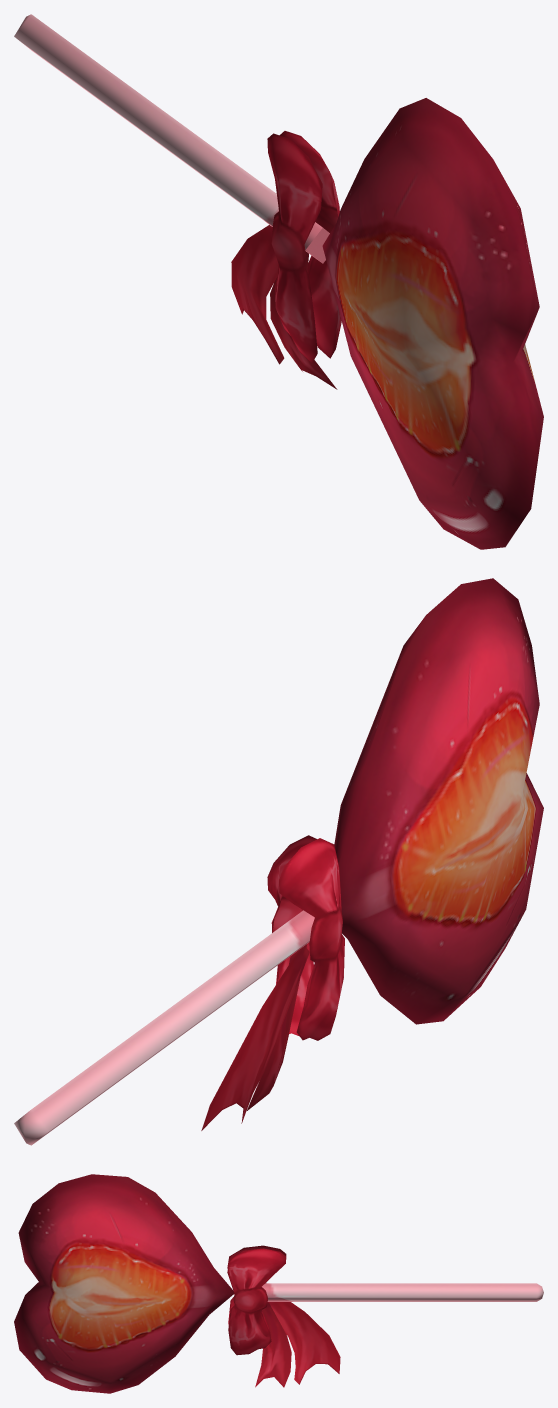
The model's file is pet_80_02_handle.FBX.
3 renders of one model, top to bottom at view 1: azimuth 30°, elevation 25°; view 2: azimuth 150°, elevation 25°; view 3: azimuth 270°, elevation 25°, orthographic. The views are drawn at different scales.
Parts seen in each view (by area): view 1: pet_80_02_handle; view 2: pet_80_02_handle; view 3: pet_80_02_handle.
Part boxes in pixels (x1=…): pet_80_02_handle: x1=14, y1=14, x2=543, y2=549; pet_80_02_handle: x1=14, y1=578, x2=543, y2=1145; pet_80_02_handle: x1=14, y1=1174, x2=543, y2=1393.
Size of the model in its own units: 16.38 by 58.11 by 127.
